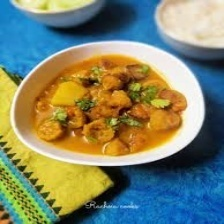sabzi: (26, 50, 196, 162)
